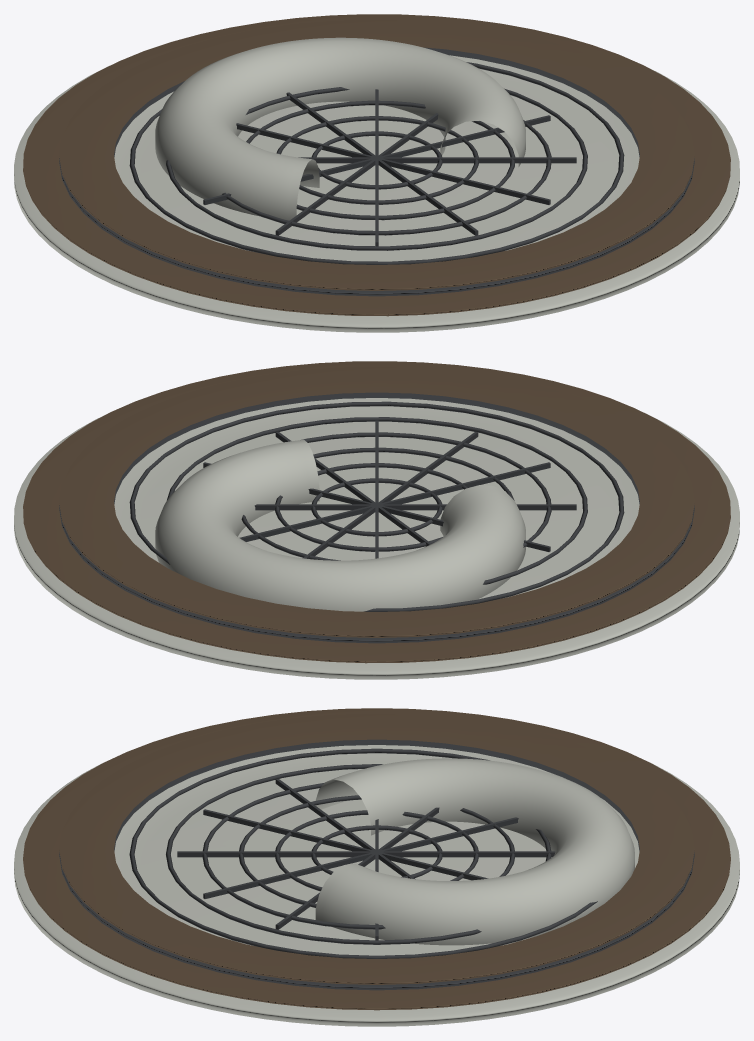
The model's file is sump-plate.glb.
The picture shows the model from 3 angles, top to bottom: view 1: azimuth 30°, elevation 25°; view 2: azimuth 150°, elevation 25°; view 3: azimuth 270°, elevation 25°; orthographic projection.
Parts seen in each view (by area): view 1: sump-plate:zincPlate, sump-plate:gasket, sump-plate:darkSteel; view 2: sump-plate:zincPlate, sump-plate:gasket, sump-plate:darkSteel; view 3: sump-plate:zincPlate, sump-plate:gasket, sump-plate:darkSteel.
Part boxes in pixels (x1,y1,x2,y2): sump-plate:zincPlate: [14, 37, 739, 332]; sump-plate:gasket: [23, 14, 730, 316]; sump-plate:darkSteel: [59, 47, 694, 296]; sump-plate:zincPlate: [14, 398, 739, 679]; sump-plate:gasket: [23, 361, 730, 663]; sump-plate:darkSteel: [59, 392, 694, 643]; sump-plate:zincPlate: [14, 745, 739, 1026]; sump-plate:gasket: [23, 708, 730, 1010]; sump-plate:darkSteel: [59, 739, 694, 990].
Size of the model in its own units: 160 by 28.14 by 160.
